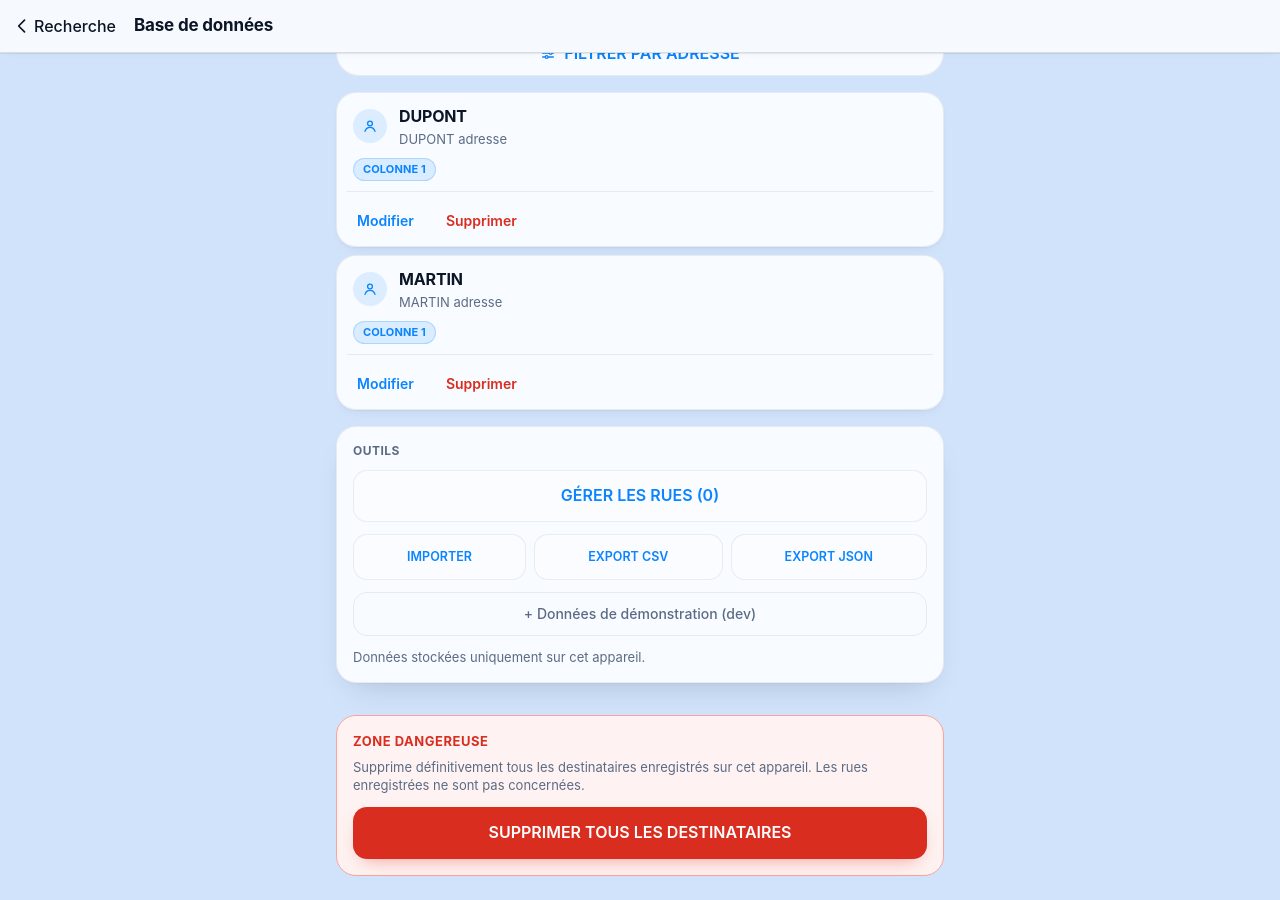
Test: DatabasePage — Zone dangereuse : suppression de tous les destinataires › le bouton SUPPRIMER DÉFINITIVEMENT est désactivé tant que la case n’est pas cochée
(page scrolled)
Click the button "SUPPRIMER TOUS LES DESTINATAIRES": coordinates (640, 833) [353,807,927,859]
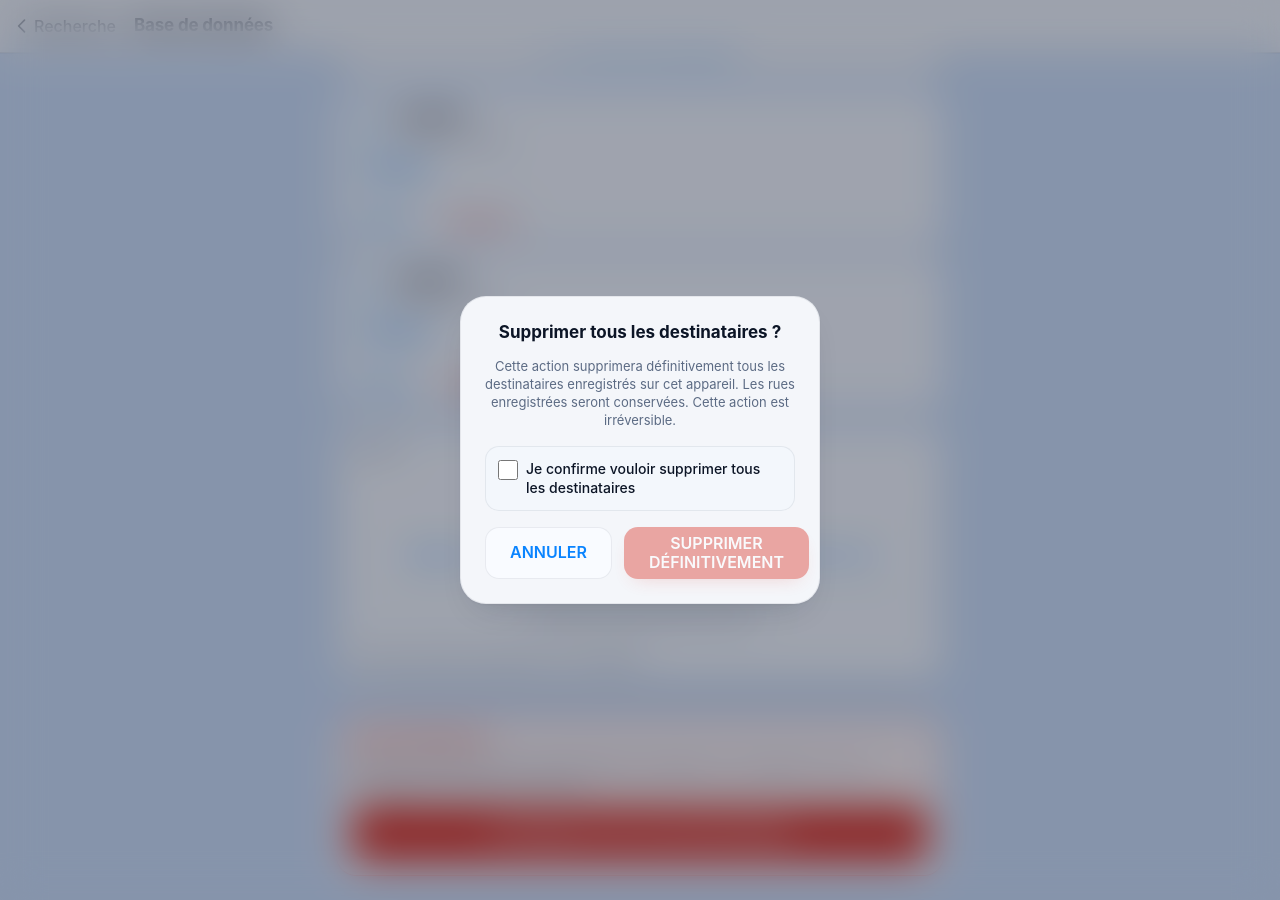
expect the button "SUPPRIMER DÉFINITIVEMENT" is disabled: met, box [624,527,809,579]
